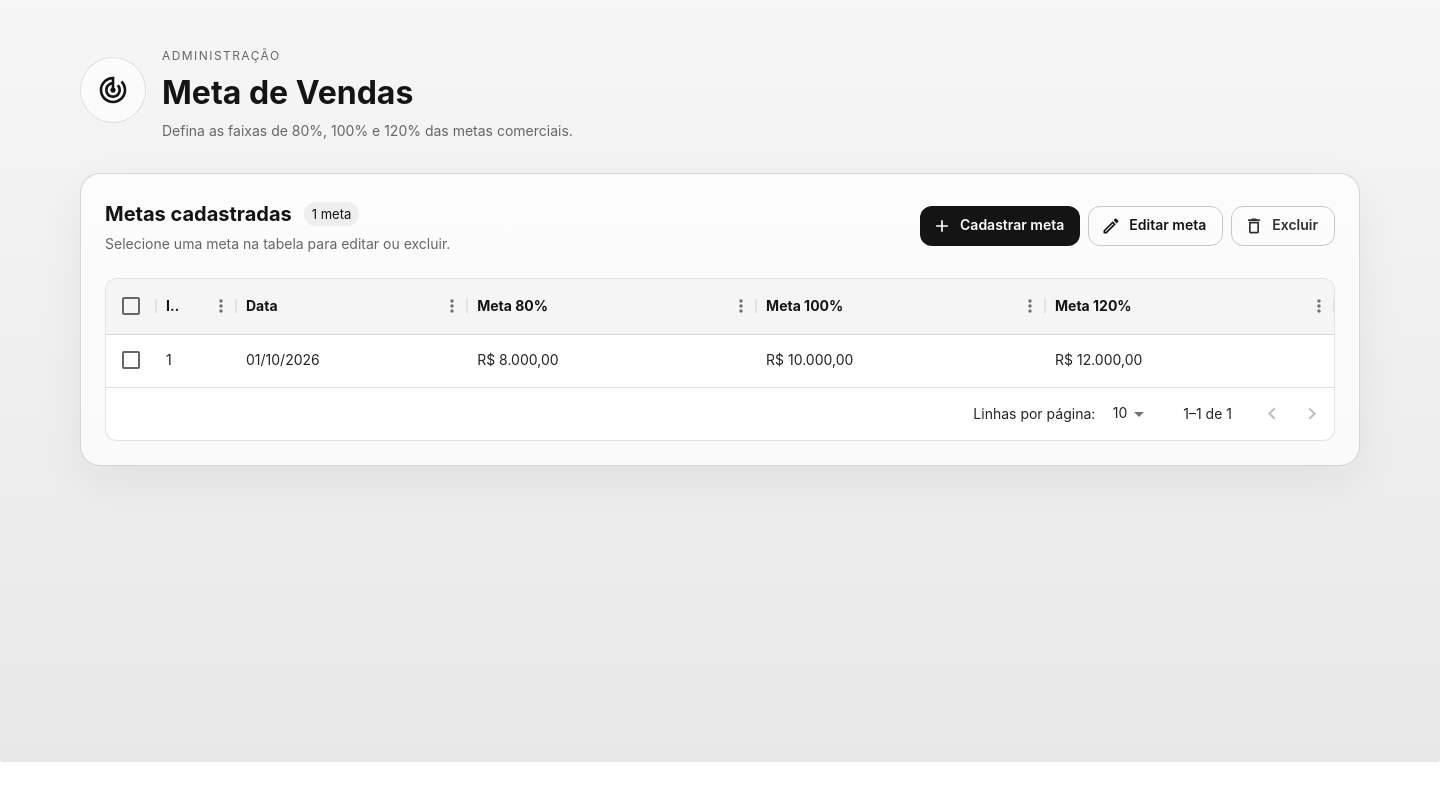
it: keeps the existing selection validation when editing without a selected goal
Expected: the text "01/10/2026" is shown, x1=246 y1=350 x2=320 y2=370
Click the button "Editar meta".
click(1156, 226)  # box x1=1088 y1=206 x2=1223 y2=246
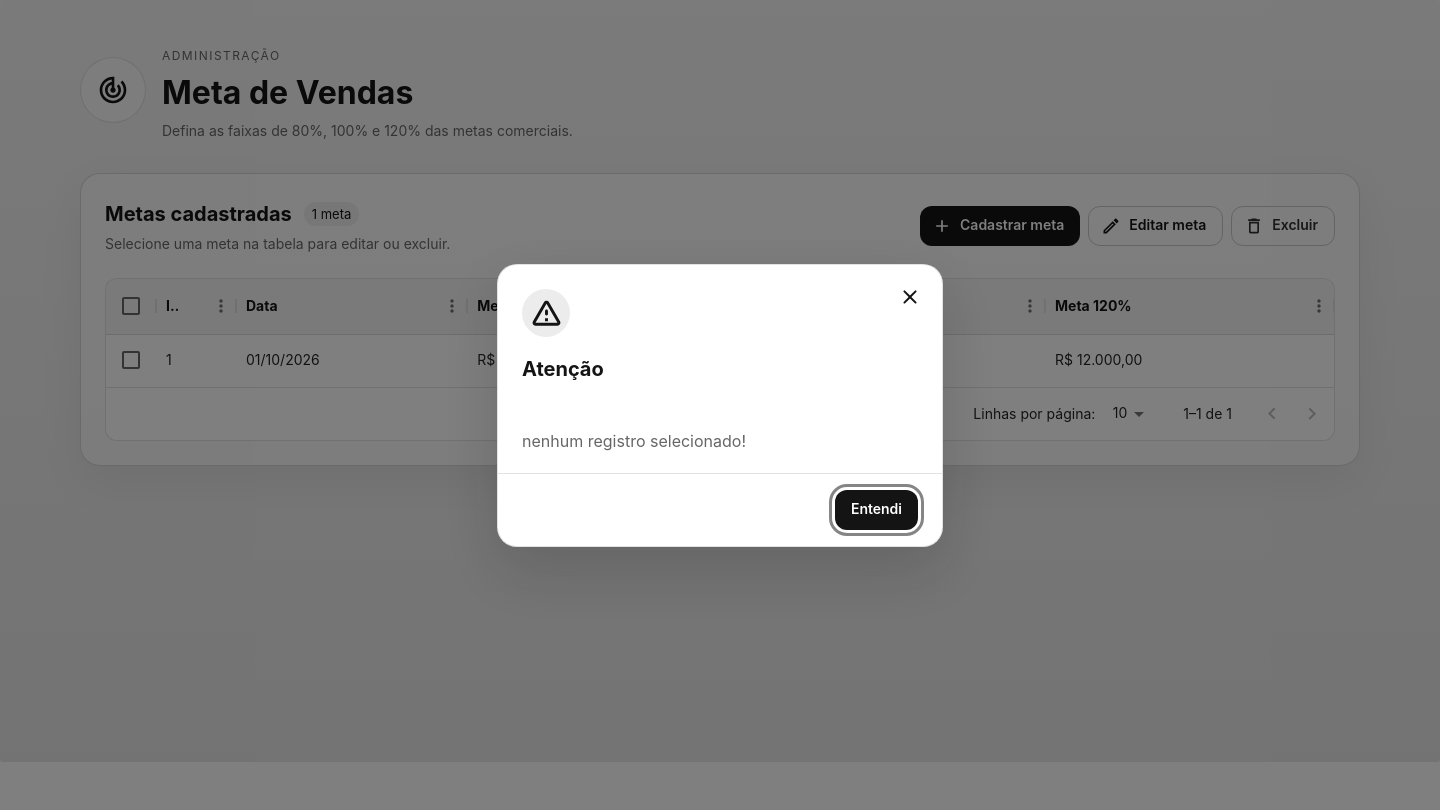
Result: the dialog "Atenção" shows "nenhum registro selecionado!" at x1=522 y1=430 x2=746 y2=450
Click the button "Entendi".
click(876, 510)  # box x1=835 y1=490 x2=918 y2=530
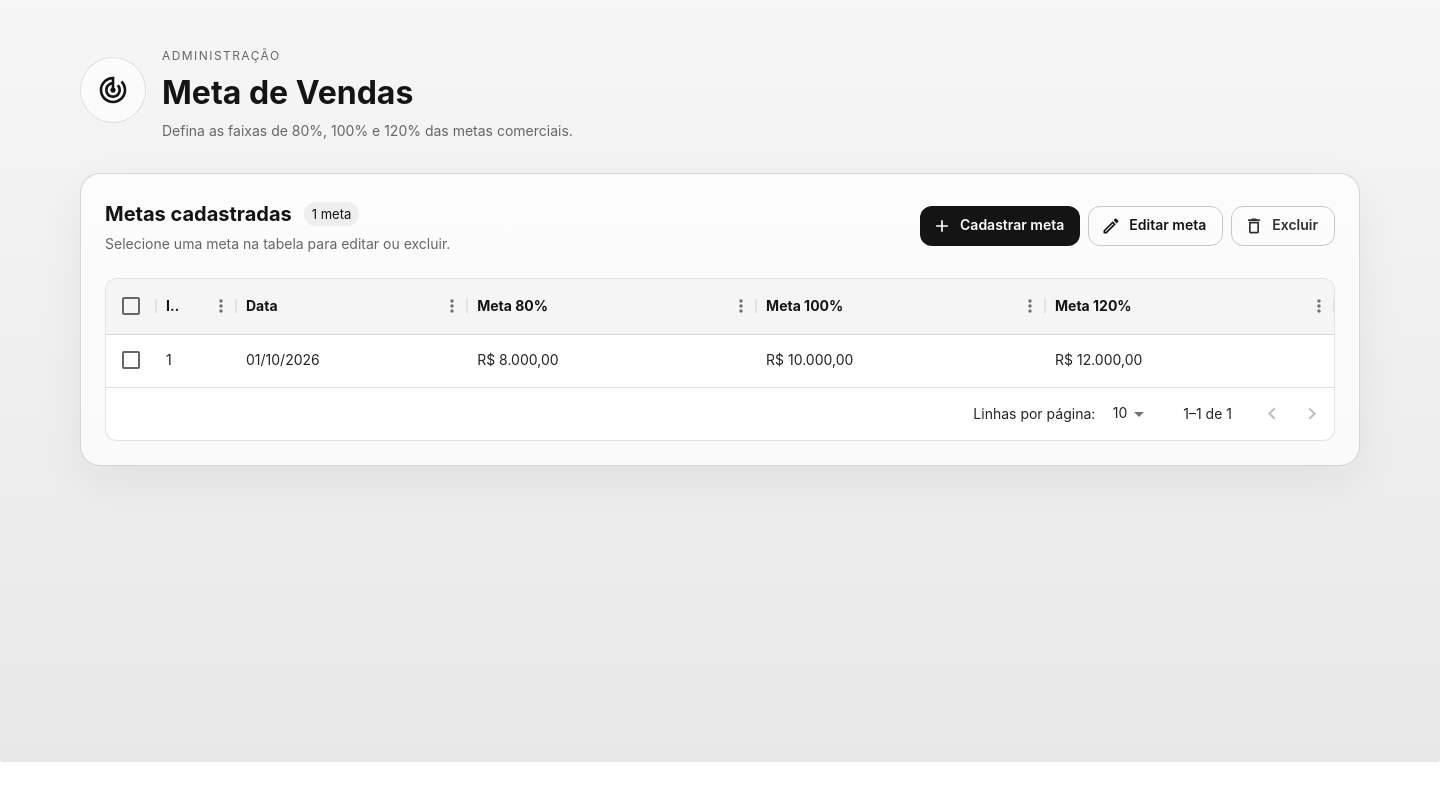
Result: the dialog is gone
Click the button "Cadastrar meta".
click(1000, 226)  # box x1=920 y1=206 x2=1080 y2=246
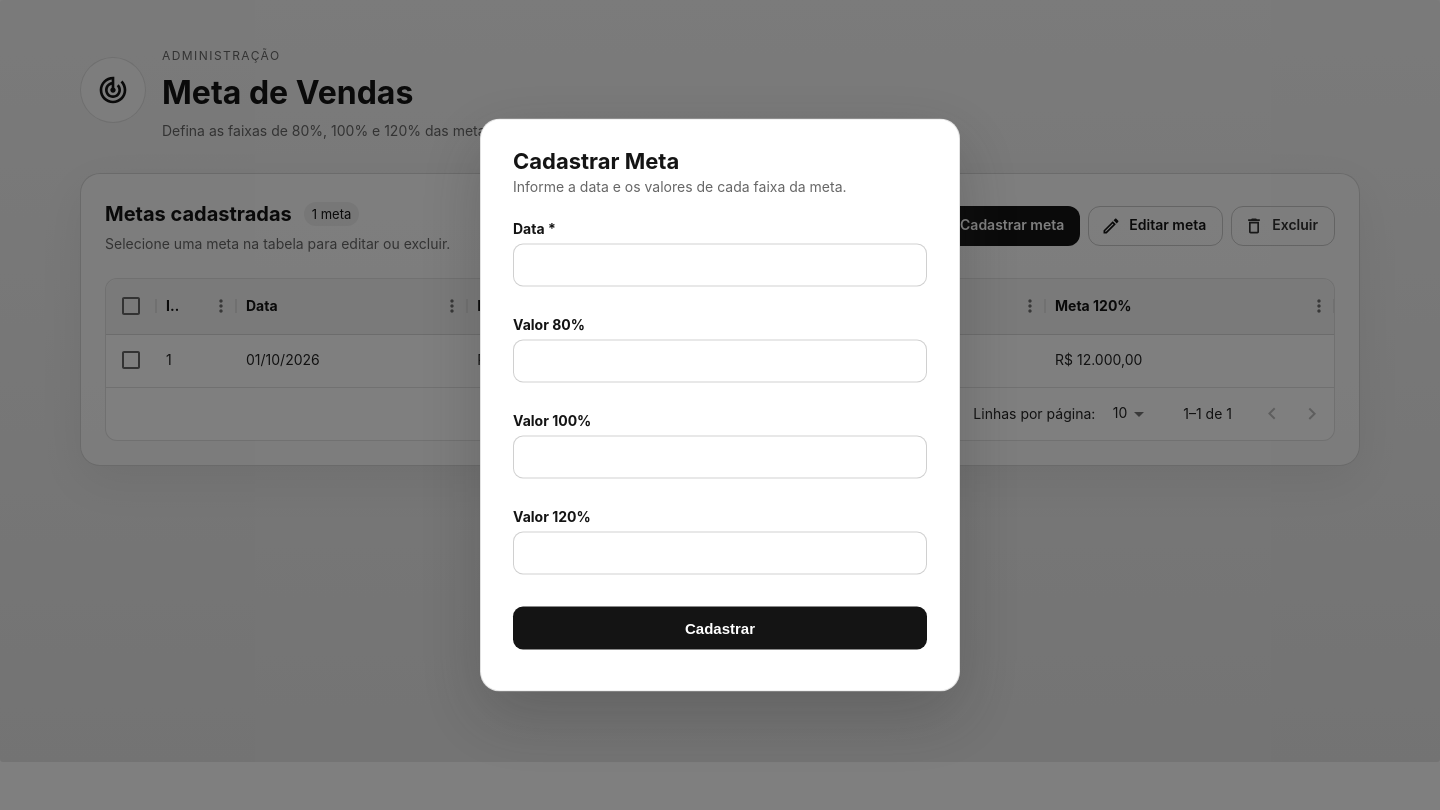
Result: the heading "Cadastrar Meta" is shown at x1=513 y1=148 x2=679 y2=174
